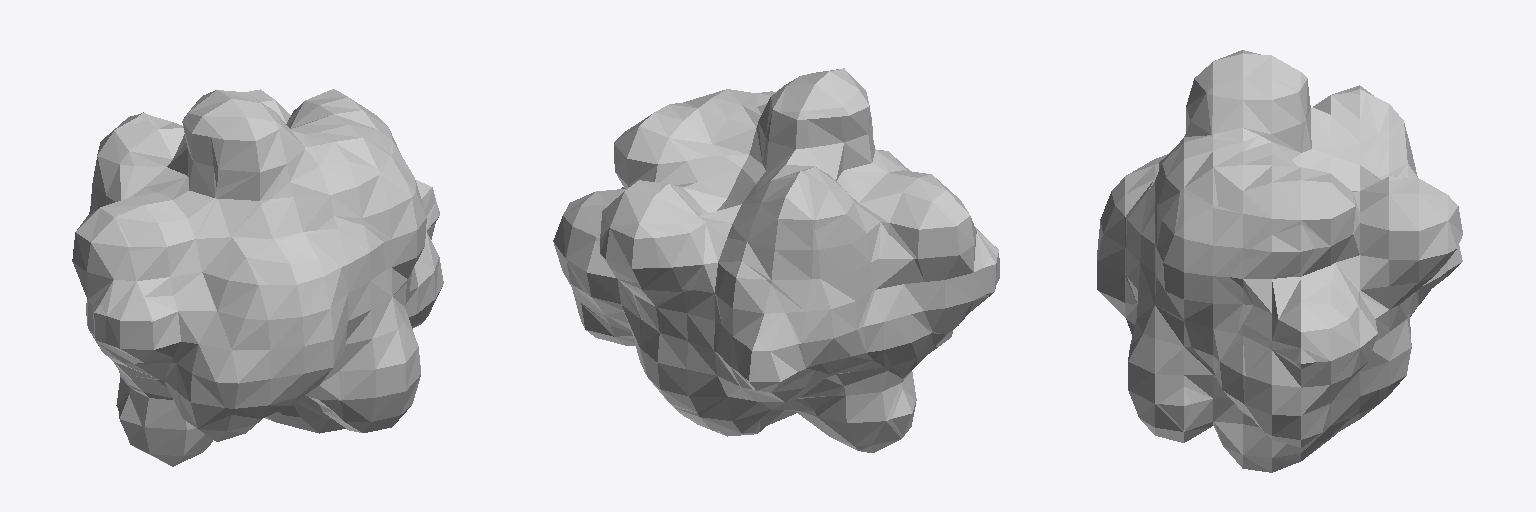
File: 1eqq_cms.obj
3 views of the same model, side by side, from view 1: azimuth 30°, elevation 25°; view 2: azimuth 150°, elevation 25°; view 3: azimuth 270°, elevation 25° (orthographic).
Bounding box in the file's own units: 84.44 × 75.1 × 68.71.